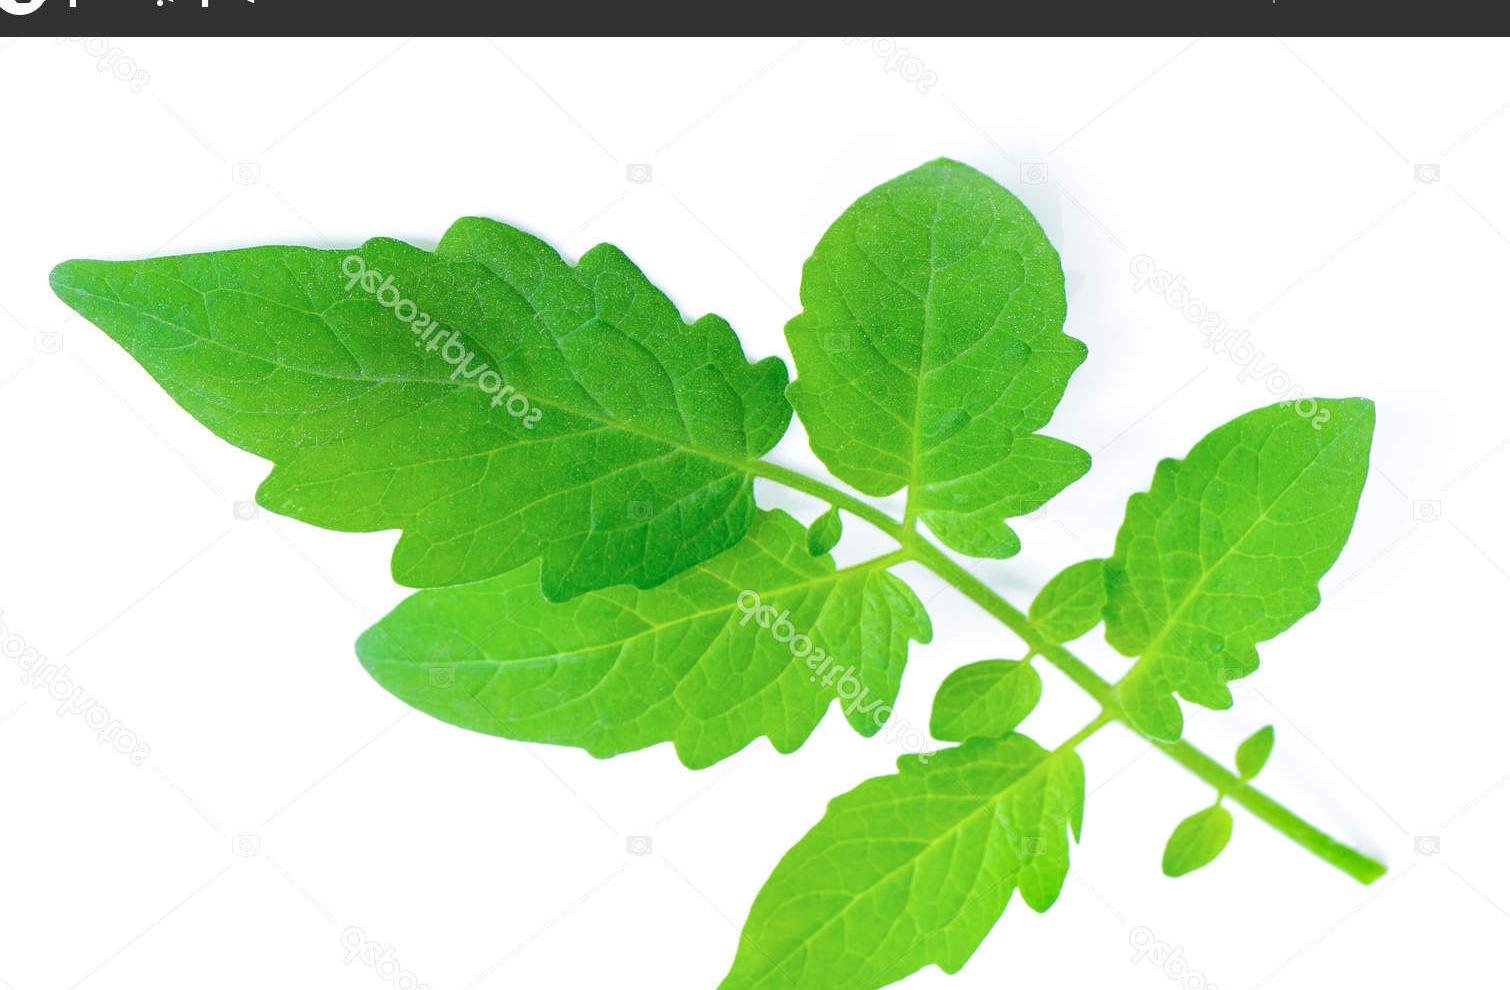Tomato leaf: (49, 215, 785, 596), (350, 480, 941, 787), (767, 134, 1099, 568), (680, 709, 1115, 990), (1090, 370, 1408, 723)
